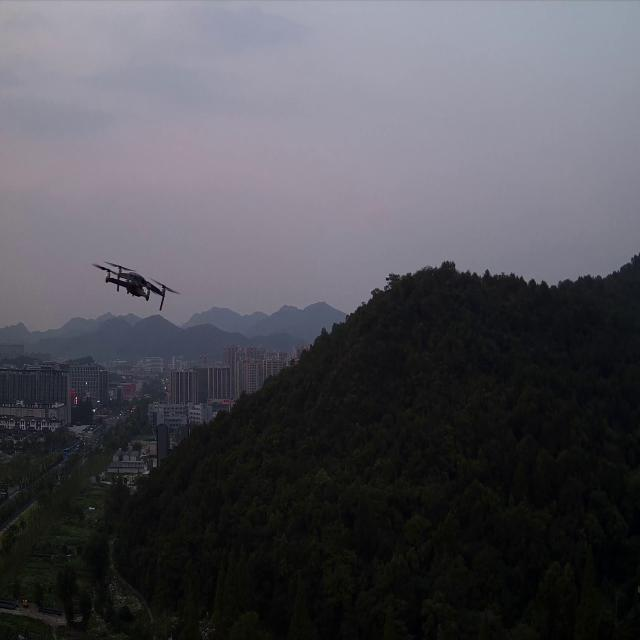UAV: (93, 259, 181, 312)
